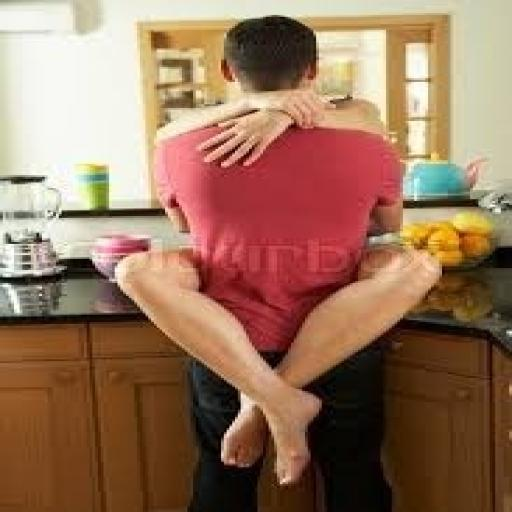hugging: (112, 13, 445, 510)
